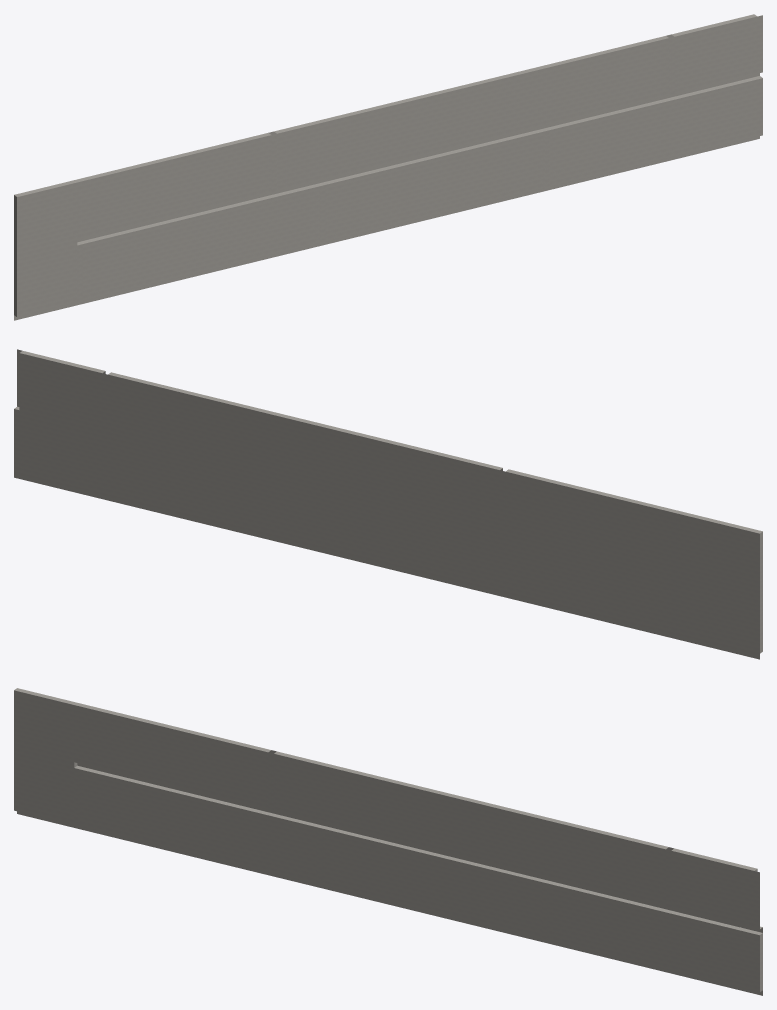
The model's file is LeftOutSideWall.obj.
3 renders of one model, top to bottom at view 1: azimuth 30°, elevation 25°; view 2: azimuth 150°, elevation 25°; view 3: azimuth 330°, elevation 25°, orthographic.
Parts seen in each view (by area): view 1: Box011; view 2: Box011; view 3: Box011.
Boxes of the visible parts, x1=… form: Box011: x1=14, y1=14, x2=762, y2=320; Box011: x1=14, y1=349, x2=762, y2=659; Box011: x1=14, y1=688, x2=762, y2=995.
Size of the model in its own units: 1610 by 260 by 11.81.
